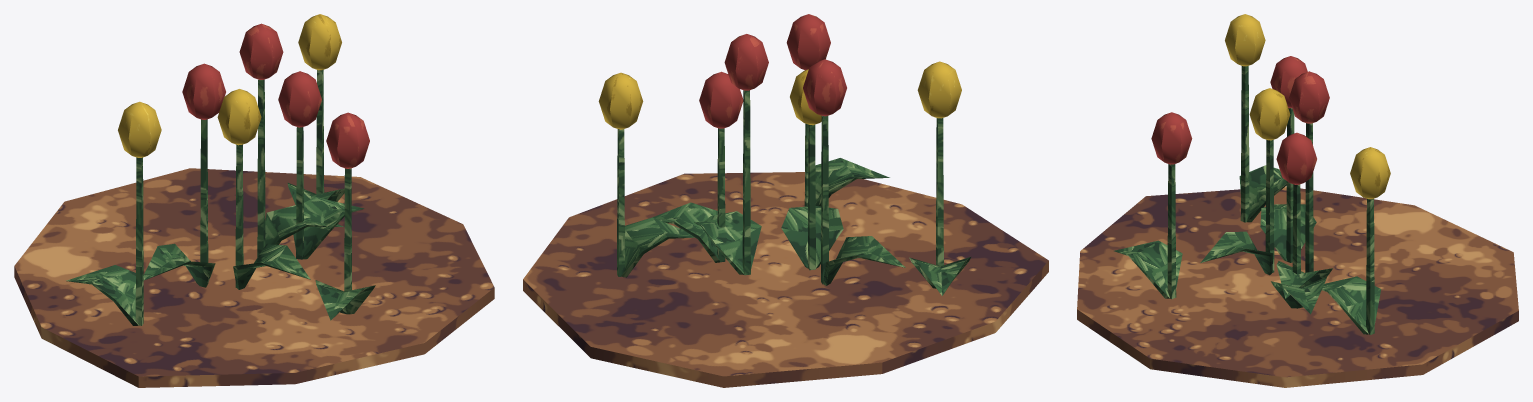
Rendered from flower_patch_a.glb.
3 renders of one model, left to right at view 1: azimuth 30°, elevation 25°; view 2: azimuth 150°, elevation 25°; view 3: azimuth 270°, elevation 25°, orthographic. The views are drawn at different scales.
Visible parts, largest first — view 1: Flowers; view 2: Flowers; view 3: Flowers.
Part boxes in pixels (x1,y1,x2,y2): Flowers: [14, 14, 494, 387]; Flowers: [523, 14, 1048, 387]; Flowers: [1077, 14, 1518, 387].
Bounding box in the file's own units: 1.55 × 0.8736 × 1.51.
Materials: 3 (3 with a texture image).
